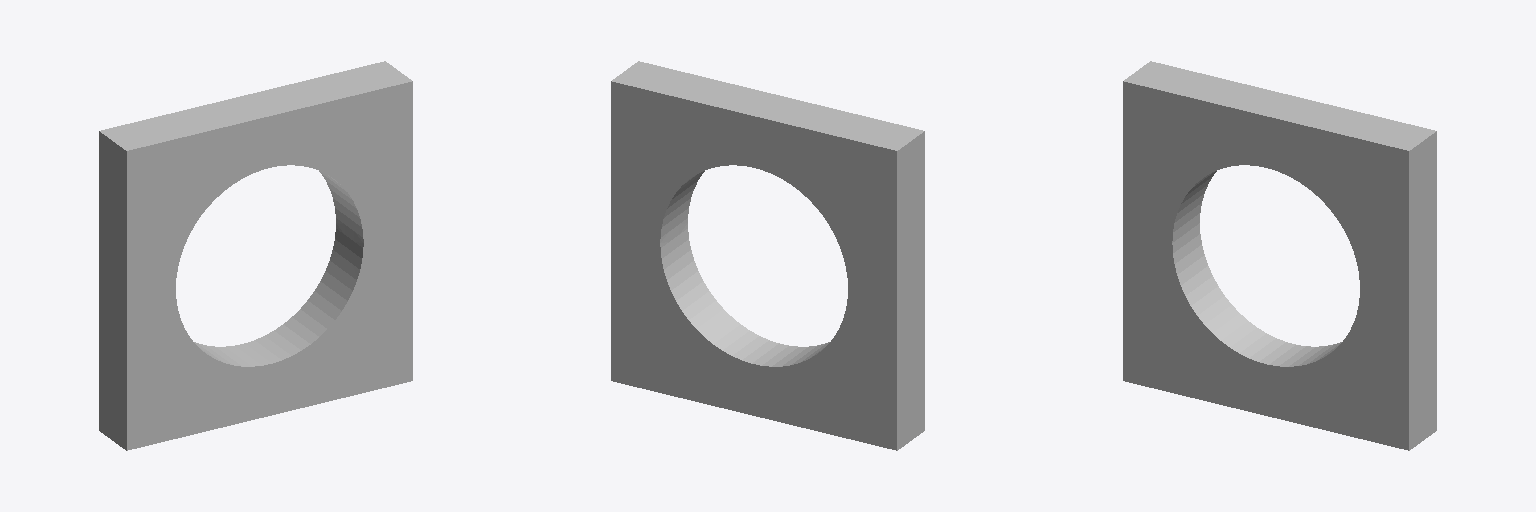
File: green_round_hole_1_5in.obj
3 views of the same model, side by side, from view 1: azimuth 30°, elevation 25°; view 2: azimuth 150°, elevation 25°; view 3: azimuth 330°, elevation 25° (orthographic).
Bounding box in the file's own units: 0.06 × 0.06 × 0.01.